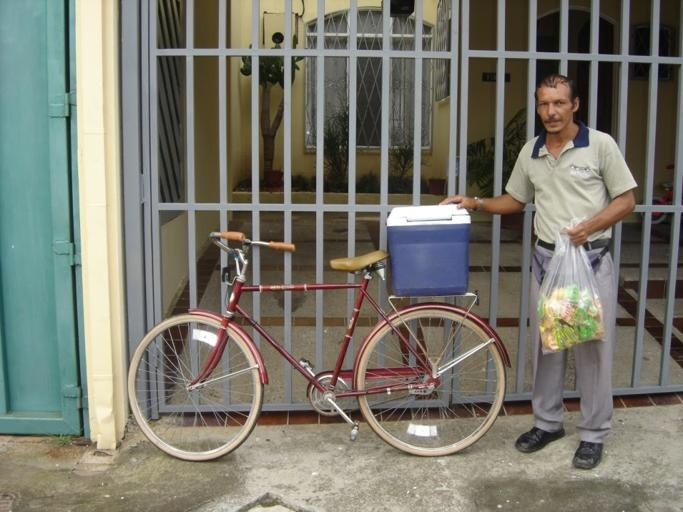non-vehicle: (126, 231, 510, 461), (639, 164, 673, 223)
